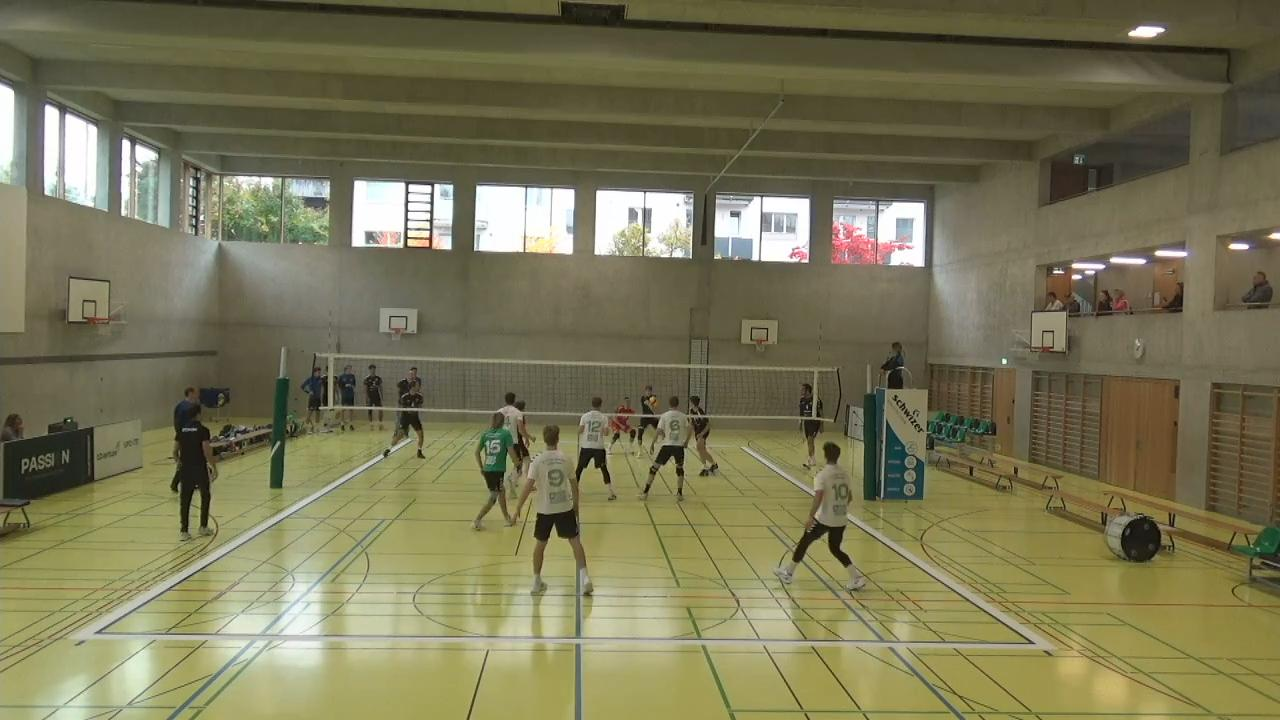ricezione: (636, 384, 662, 457)
